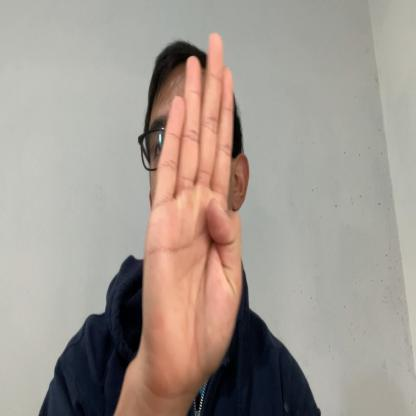B: (141, 30, 242, 388)
